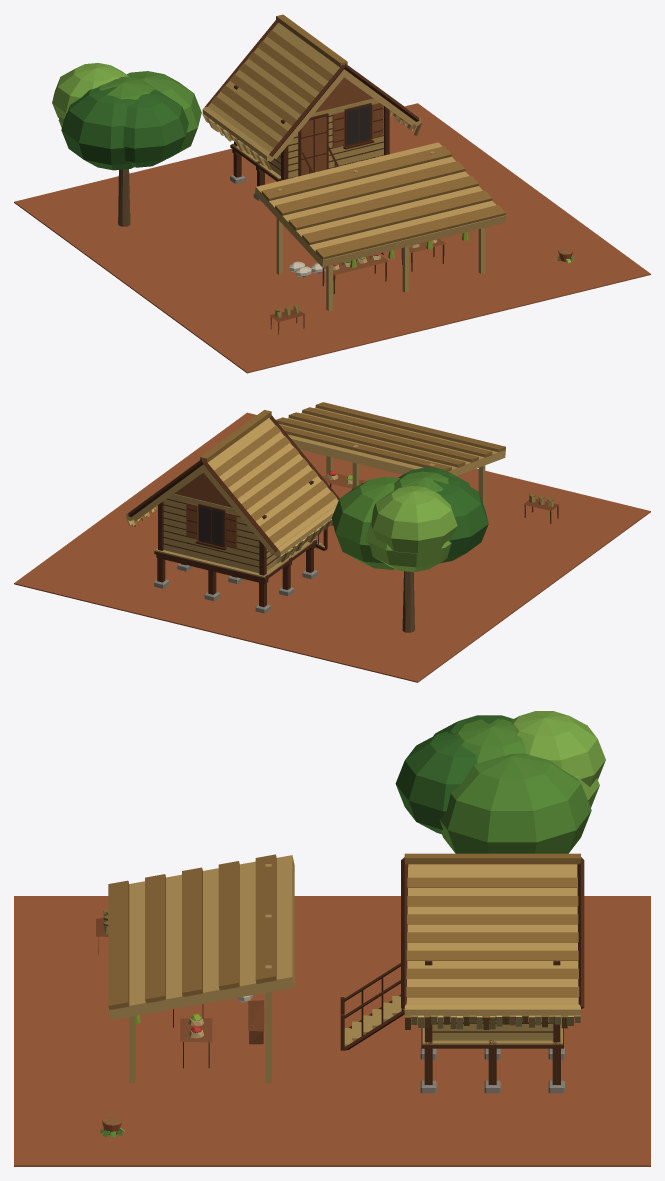
Rendered from shop_1.glb.
The picture shows the model from 3 angles, top to bottom: view 1: azimuth 30°, elevation 25°; view 2: azimuth 150°, elevation 25°; view 3: azimuth 270°, elevation 25°; orthographic projection. The views are drawn at different scales.
Parts seen in each view (by area): view 1: body, windows; view 2: body, windows; view 3: body.
Part boxes in pixels (<box>): body: <box>14,14,650,373</box>; windows: <box>347,106,370,144</box>; body: <box>14,402,650,682</box>; windows: <box>199,506,222,545</box>; body: <box>14,711,650,1166</box>.
Bounding box in the file's own units: 16.02 × 6.07 × 15.9.
